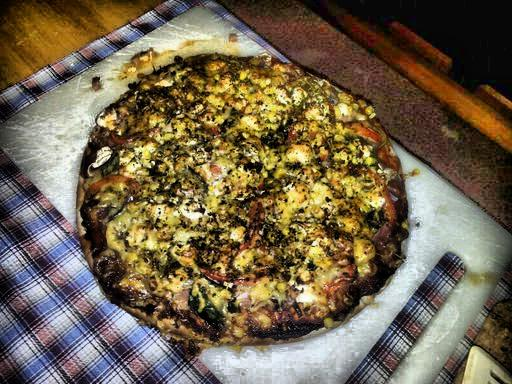pizza: (24, 49, 432, 344)
